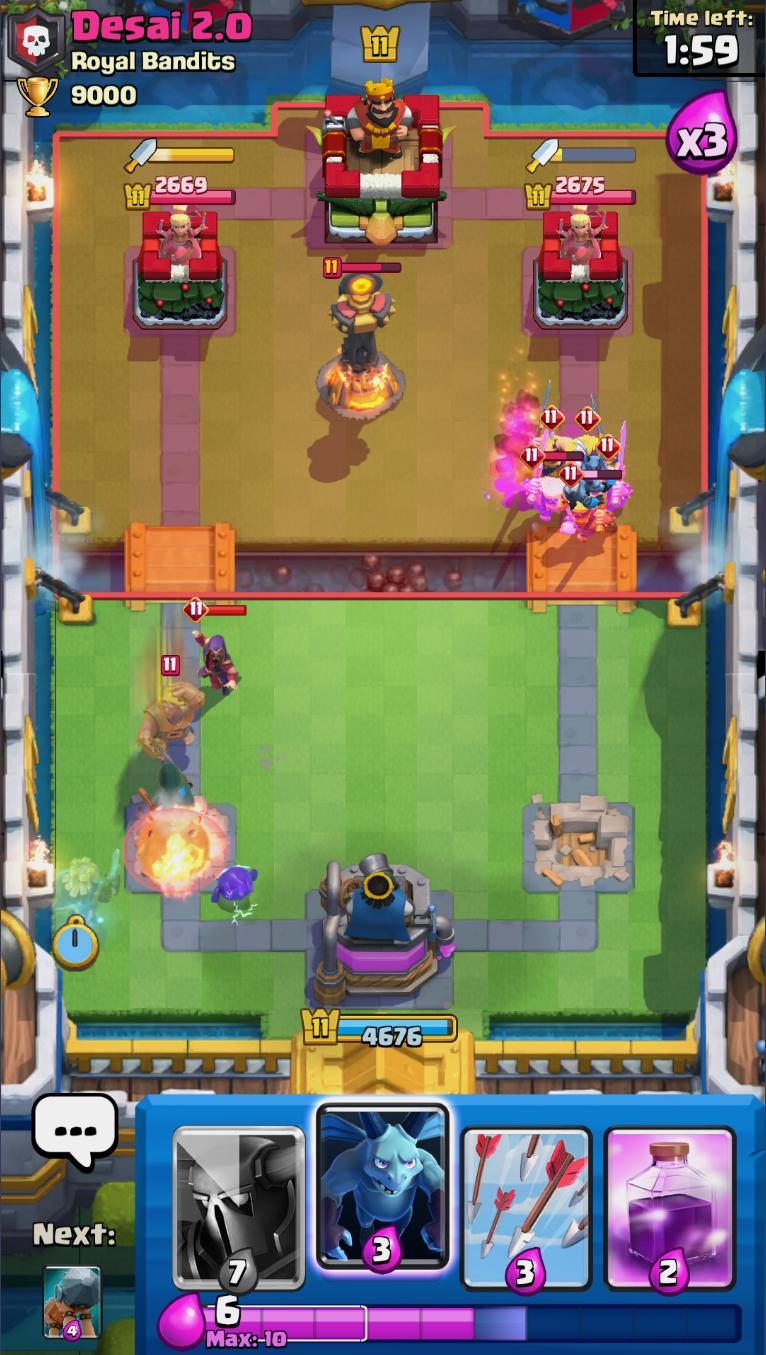ArrowDeck: (454, 1096, 600, 1296)
BattleRamNext: (41, 1264, 103, 1343)
DaggerDuchess: (157, 206, 210, 266), (557, 206, 611, 264)
Daggers: (126, 140, 240, 176), (531, 139, 640, 173)
Elixir: (203, 1294, 744, 1351)
EnemyTower: (136, 214, 234, 334), (539, 211, 633, 333)
EvoBarbarian: (519, 441, 587, 523), (560, 461, 624, 541), (587, 423, 633, 510), (571, 406, 627, 463), (529, 409, 577, 453)
EvoWizard: (183, 596, 249, 694)
GoldenKnight: (139, 656, 206, 760)
Inferno: (317, 257, 410, 426)
KingTower: (320, 74, 451, 251)
MinionsDeck: (313, 1099, 451, 1297)
MyBandit: (137, 761, 196, 816)
MyElectroSpirit: (210, 861, 259, 904)
MyKingHP: (304, 1009, 461, 1050)
MyKingTower: (314, 851, 460, 1011)
MyMinion: (570, 433, 619, 487), (557, 463, 610, 510)
MyPrincessTowerBrocken: (124, 796, 240, 893), (527, 794, 641, 891)
MyRoyaleGhost: (57, 849, 124, 931)
PekkaDeck: (166, 1096, 311, 1294)
RageDeck: (597, 1094, 741, 1299)
TowerPrincessHP: (127, 174, 240, 210), (530, 176, 641, 210)
